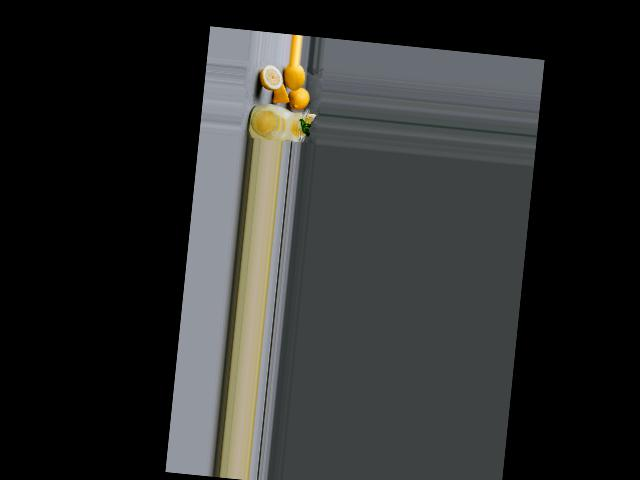lemon: (282, 64, 304, 95)
